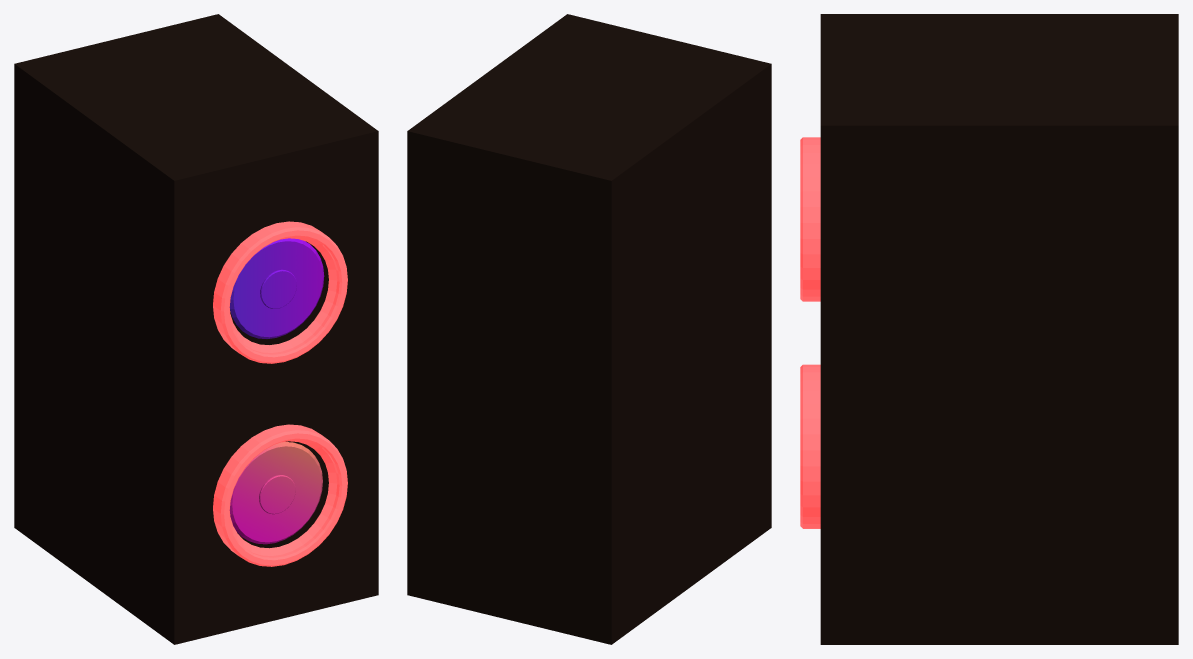
3 renders of one model, left to right at view 1: azimuth 30°, elevation 25°; view 2: azimuth 150°, elevation 25°; view 3: azimuth 270°, elevation 25°, orthographic. The views are drawn at different scales.
Parts seen in each view (by area): view 1: Body; view 2: Body; view 3: Body.
Part boxes in pixels (box(x1,y1,x2,y2)): Body: box(14, 14, 378, 644); Body: box(407, 14, 771, 644); Body: box(800, 14, 1178, 644).
Size of what is drawn, in the model's own units: 1.47 by 3.2 by 2.11.
3 materials, 1 textured.
